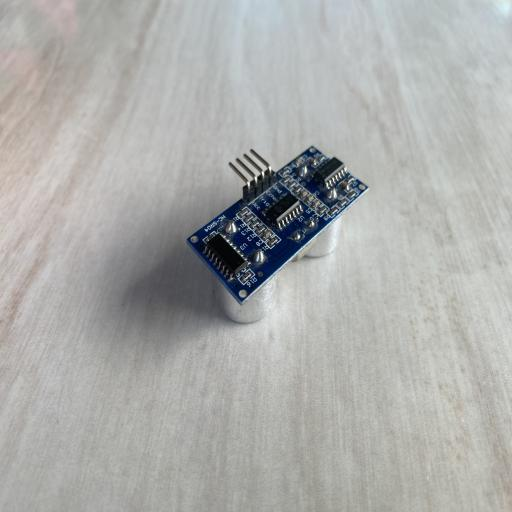Ultrasonic Sensor: (186, 142, 370, 324)
